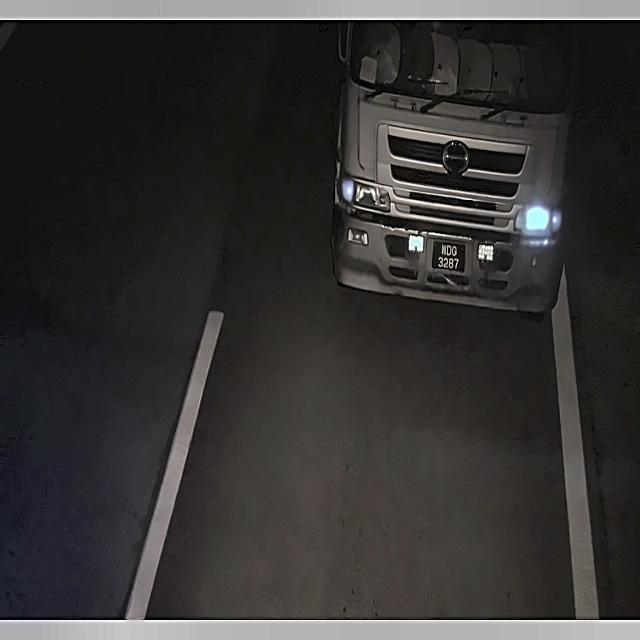car: (430, 238, 469, 276)
